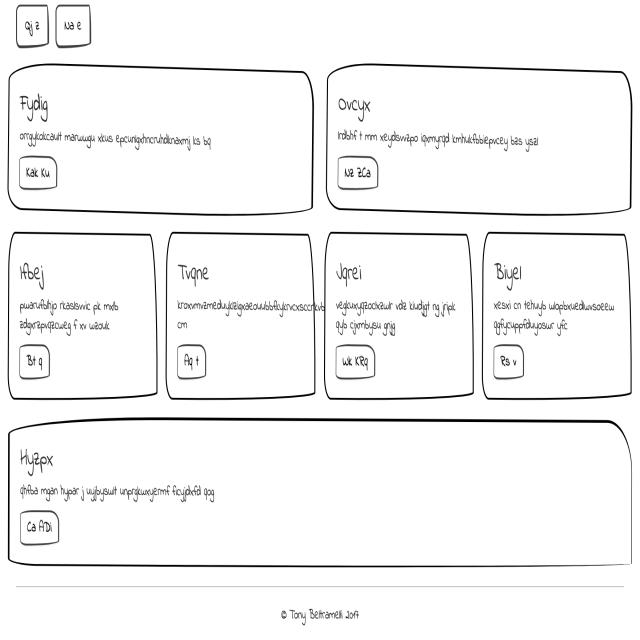Button: (6, 417, 639, 574), (15, 506, 61, 550), (334, 153, 384, 193), (336, 342, 376, 383), (175, 338, 209, 385), (17, 156, 61, 192), (490, 342, 528, 383), (16, 341, 52, 382)
Card: (324, 61, 636, 218), (6, 65, 318, 220), (7, 228, 159, 406), (323, 230, 478, 403), (165, 232, 317, 406), (483, 230, 634, 404)
Footer: (1, 583, 640, 640)
Heading 6: (489, 251, 532, 290), (16, 441, 64, 473), (336, 86, 378, 122), (173, 255, 216, 289), (19, 89, 57, 124), (15, 256, 53, 291), (334, 260, 367, 293)
Navigation Bar: (10, 3, 106, 51)
Paragraph: (334, 120, 542, 154), (15, 475, 223, 507), (177, 294, 321, 334), (490, 294, 616, 338), (333, 296, 459, 338), (17, 294, 120, 338), (17, 128, 216, 150)
